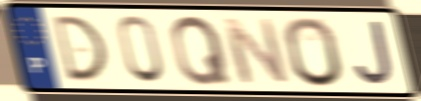0: (117, 14, 166, 86)
D: (49, 13, 110, 84)
J: (352, 19, 397, 88)
N: (218, 16, 294, 87)
O: (281, 14, 346, 89)
Q: (168, 13, 234, 87)
